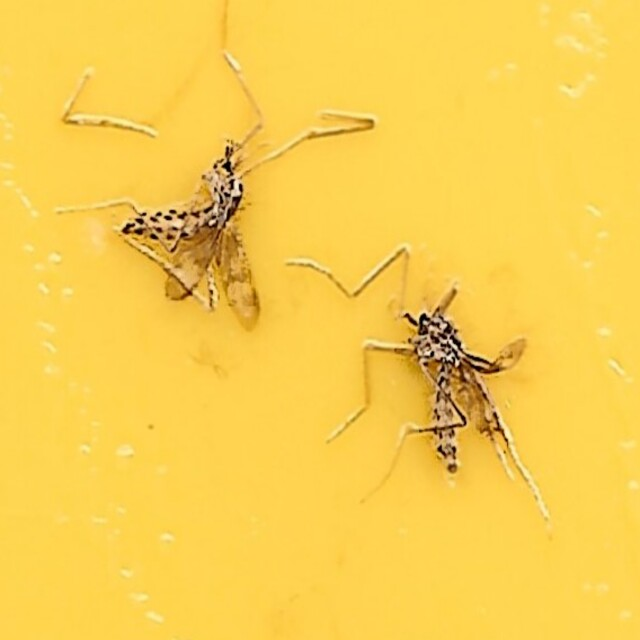Nematocera: (338, 245, 527, 494), (113, 146, 269, 334)
